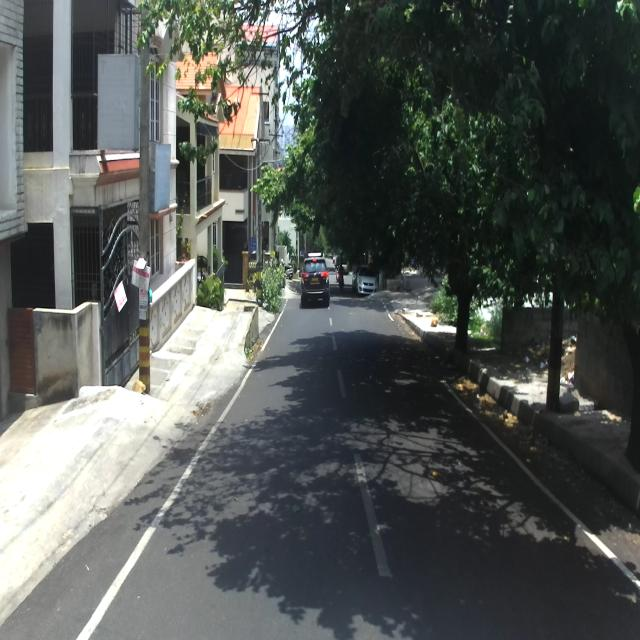car ahead at: (300, 250, 332, 312)
electric pole ahead at: (133, 8, 163, 402)
tree ahead at: (498, 42, 627, 420)
